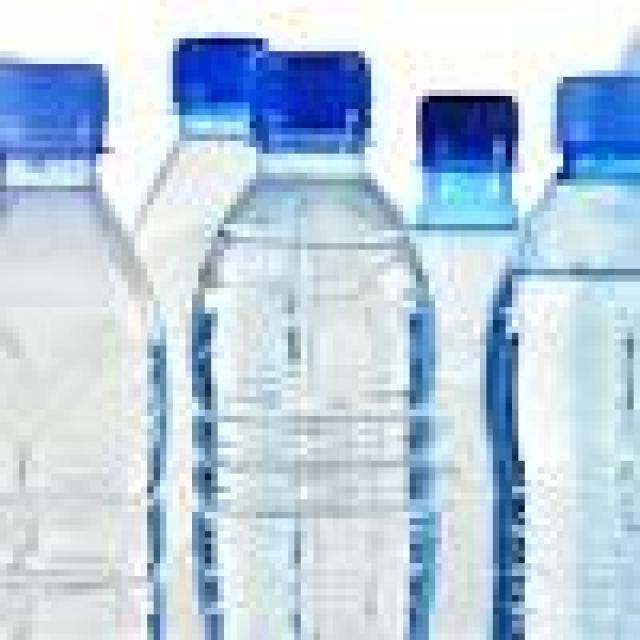cap: (234, 48, 379, 176), (5, 41, 121, 172), (400, 78, 532, 190), (158, 33, 274, 133), (552, 67, 640, 171)
